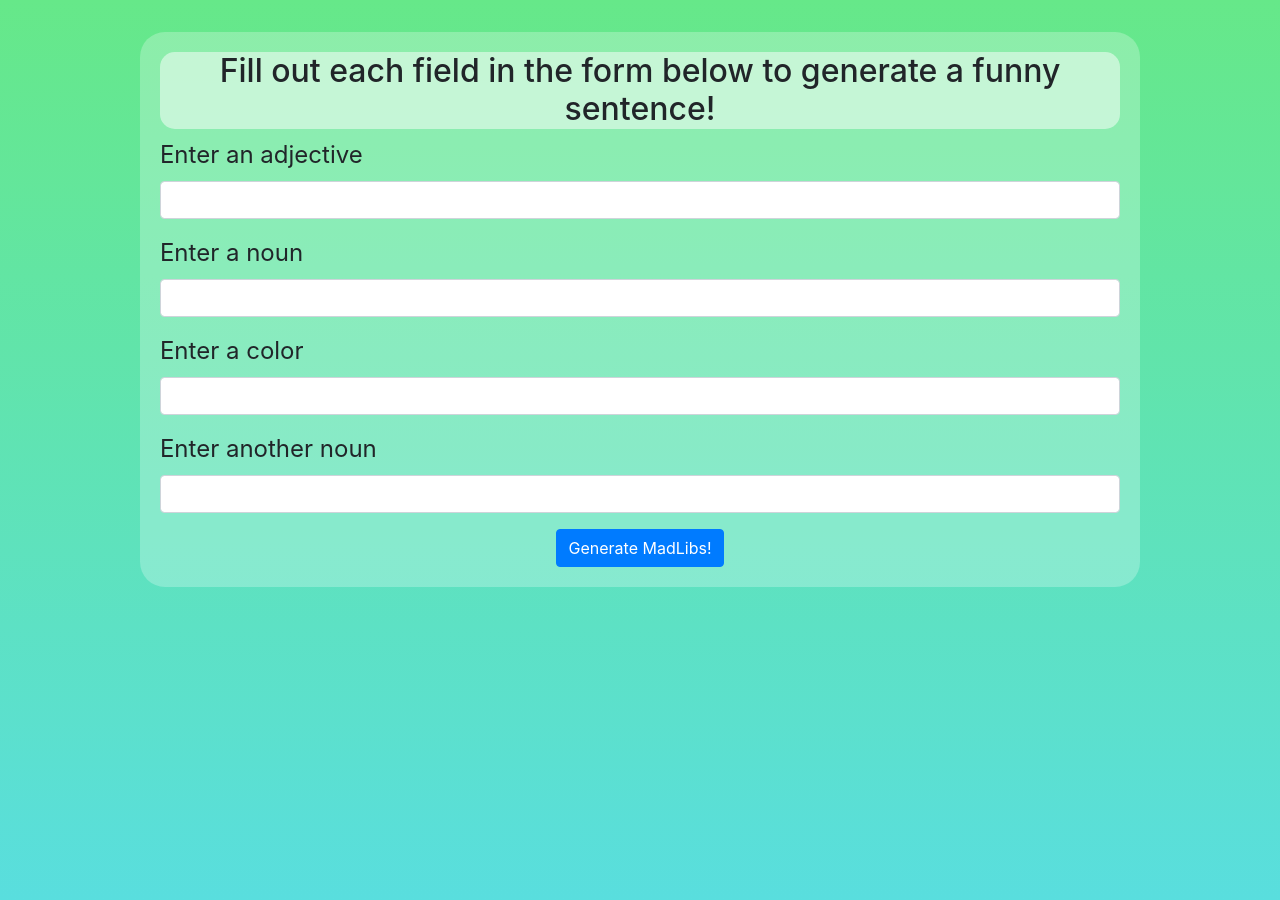
Tests functionality of MadLibsForm › Test that user can change input fields and the form properly validates.
Check: the button "Generate MadLibs!" is shown, box [556,529,724,567]
Check: the field labelled "Enter a noun" is empty, box [160,279,1120,317]
make sure user can change input values.
Type "lazy" into the field labelled "Enter an adjective" at [640, 200], box [160,181,1120,219]
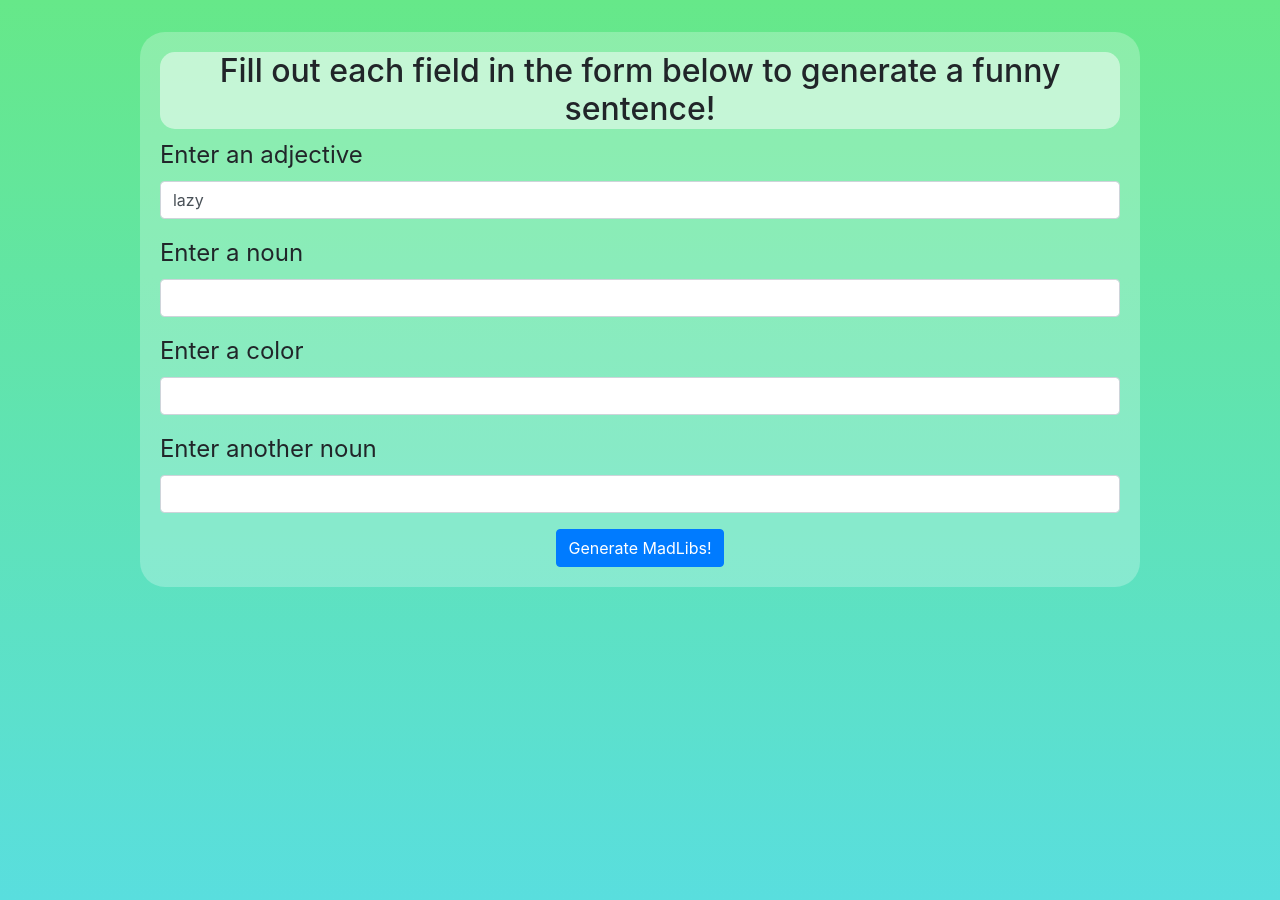
Type "walrus" into the field labelled "Enter a noun" at [640, 298], box [160,279,1120,317]
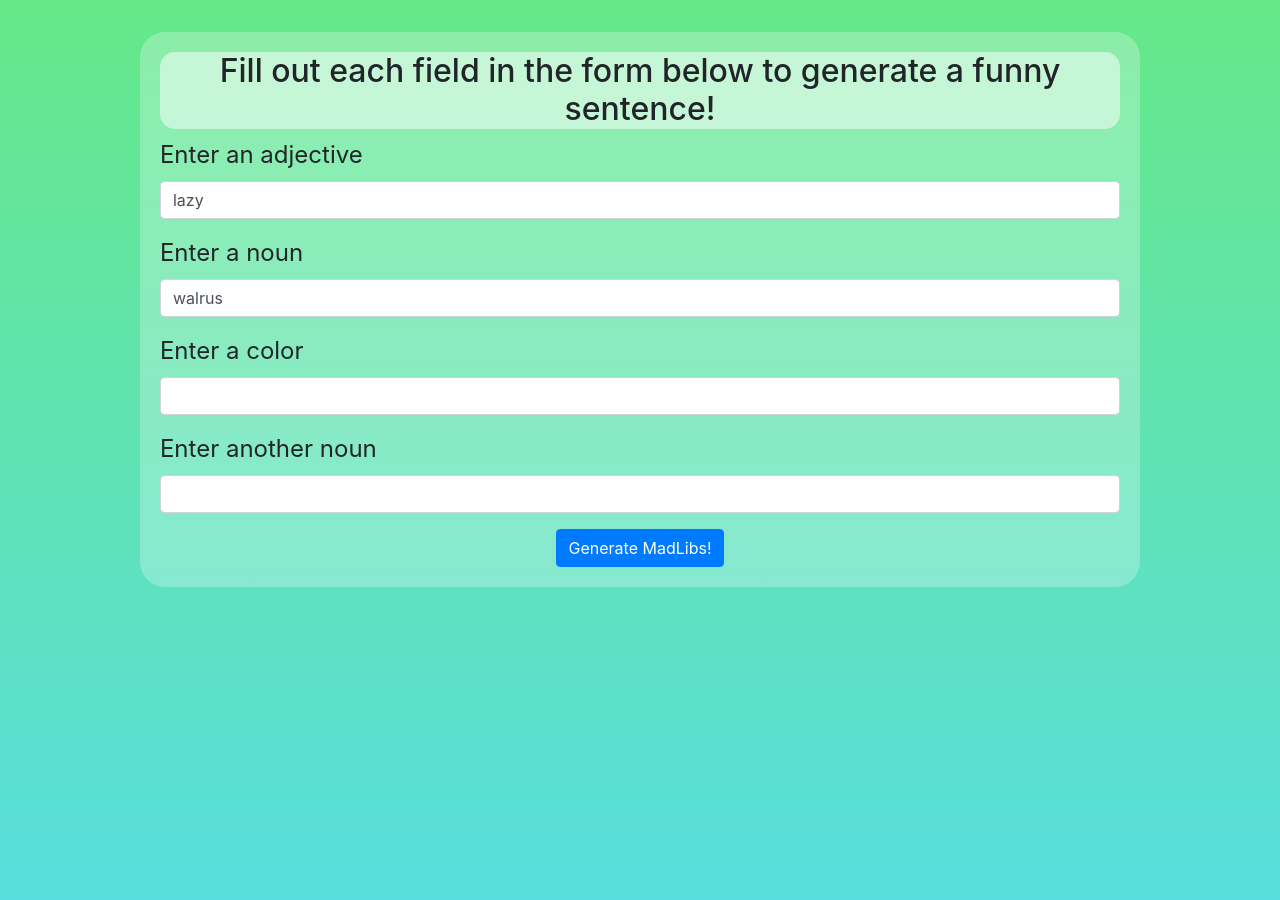
Type "pink" into the field labelled "Enter a color" at [640, 396], box [160,377,1120,415]
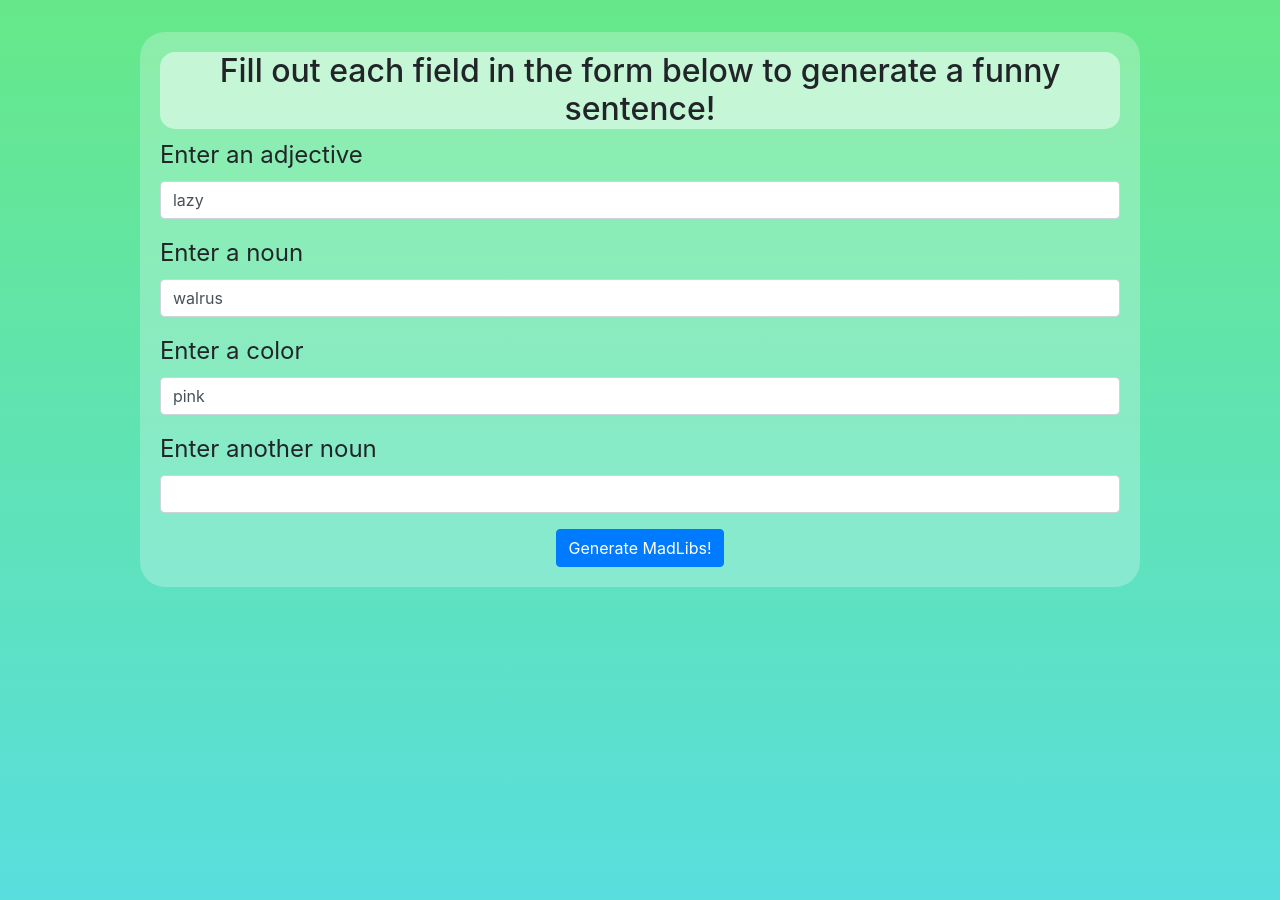
Click the button "Generate MadLibs!" at [640, 548], box [556,529,724,567]
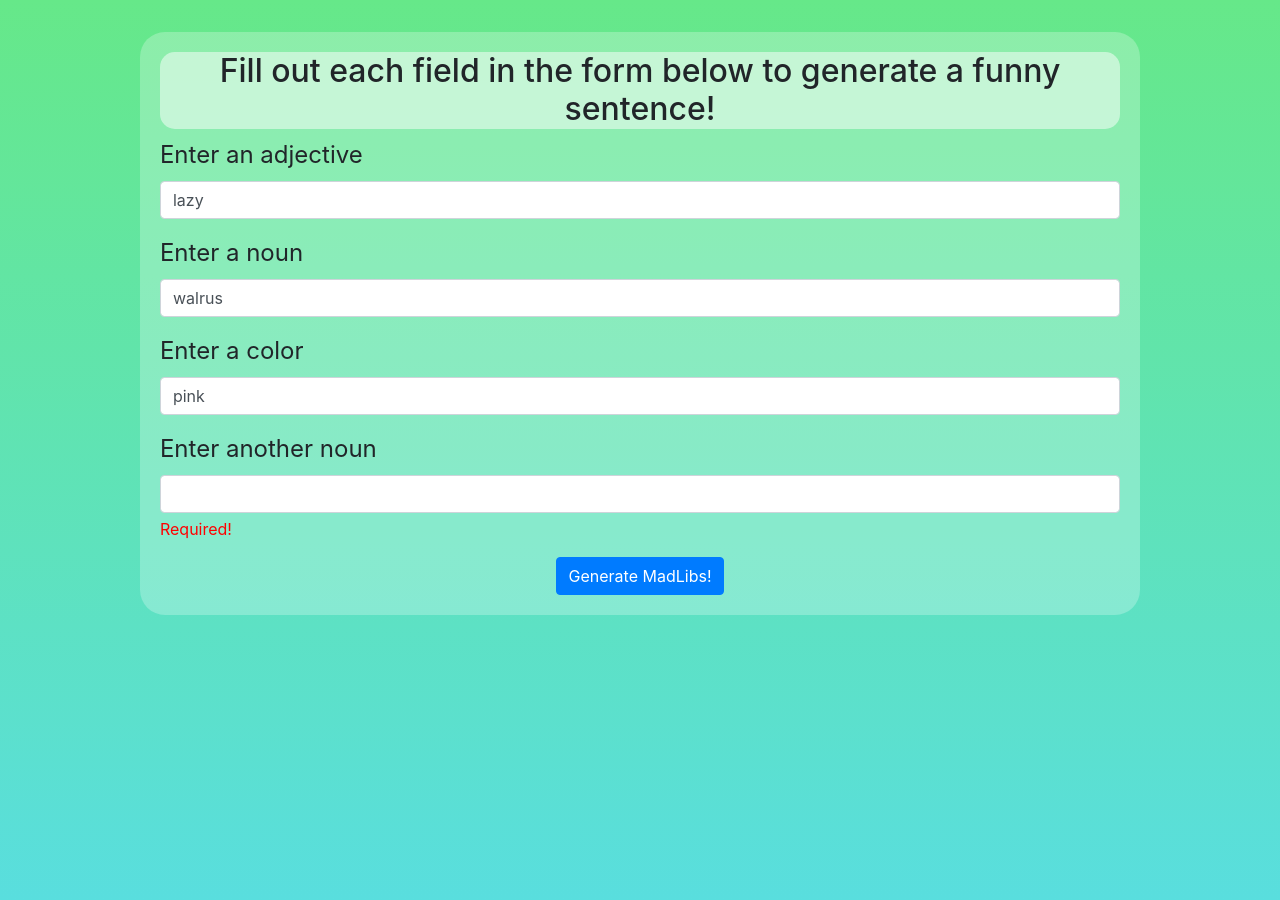
Check: the text "Required!" is shown, box [160,519,232,539]
